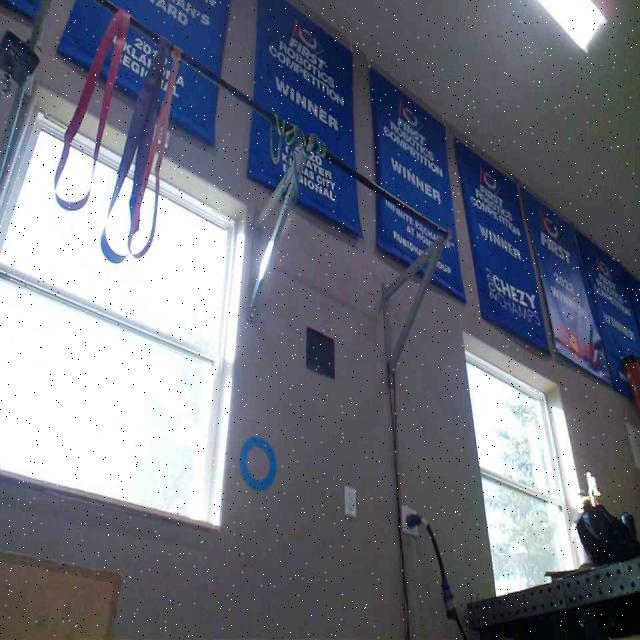ring_blue: (239, 436, 276, 490)
square_black: (306, 325, 334, 378)
